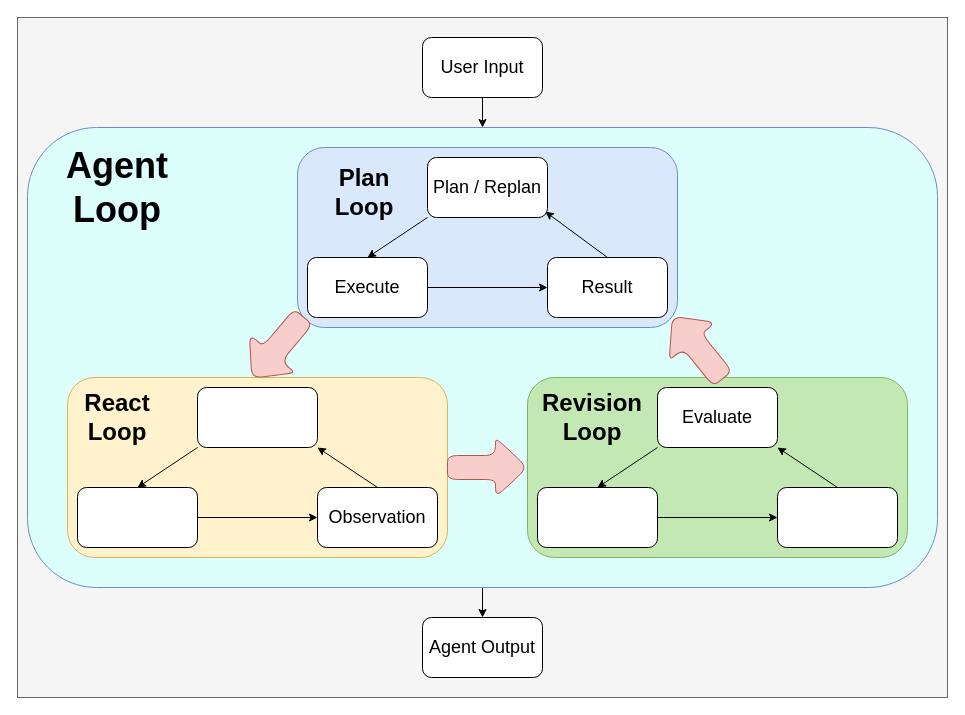
The diagram is 965 pixels wide and 715 high, and some of its shapes have lost their labels. The centre of each missing label's shape, as x and y in pixels:
"Action" belongs at point (137, 517).
"Feedback" belongs at point (597, 517).
"Reasoning" belongs at point (257, 417).
"Revise" belongs at point (837, 517).
